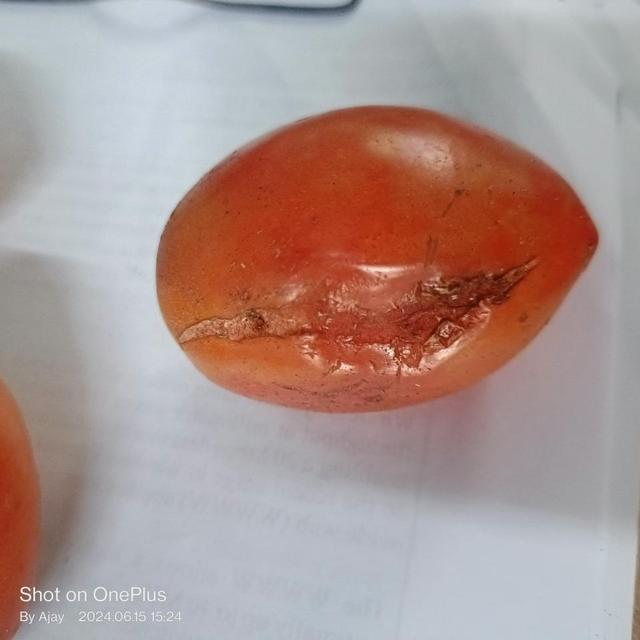Cracking Fruit: (144, 123, 512, 293)
